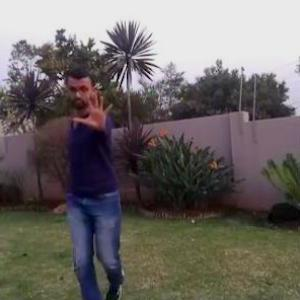follow_hand: (70, 89, 115, 133)
